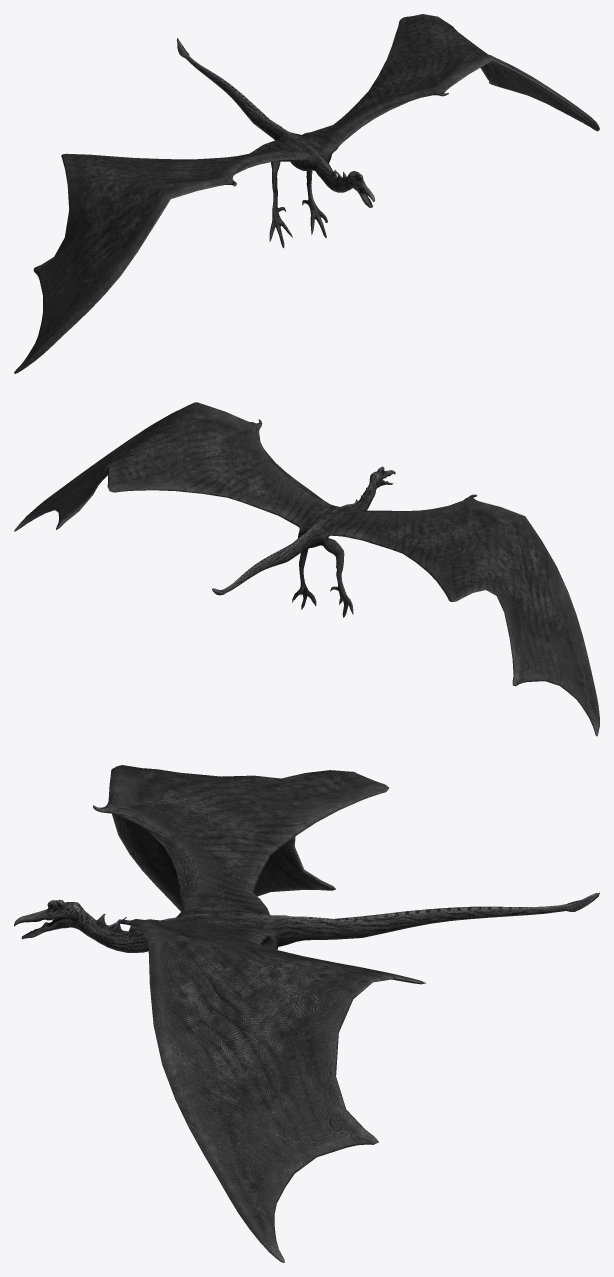
Rendered from Fellbeast_Animate_Grab_Glide_36.obj.
The picture shows the model from 3 angles, top to bottom: view 1: azimuth 30°, elevation 25°; view 2: azimuth 150°, elevation 25°; view 3: azimuth 270°, elevation 25°; orthographic projection. The views are drawn at different scales.
Visible parts, largest first — view 1: Fellbeast; view 2: Fellbeast; view 3: Fellbeast.
Part boxes in pixels (box(x1,y1,x2,y2)): Fellbeast: box(14, 14, 599, 373); Fellbeast: box(14, 402, 599, 736); Fellbeast: box(14, 765, 599, 1262).
Bounding box in the file's own units: 7.78 × 2.79 × 4.38.
